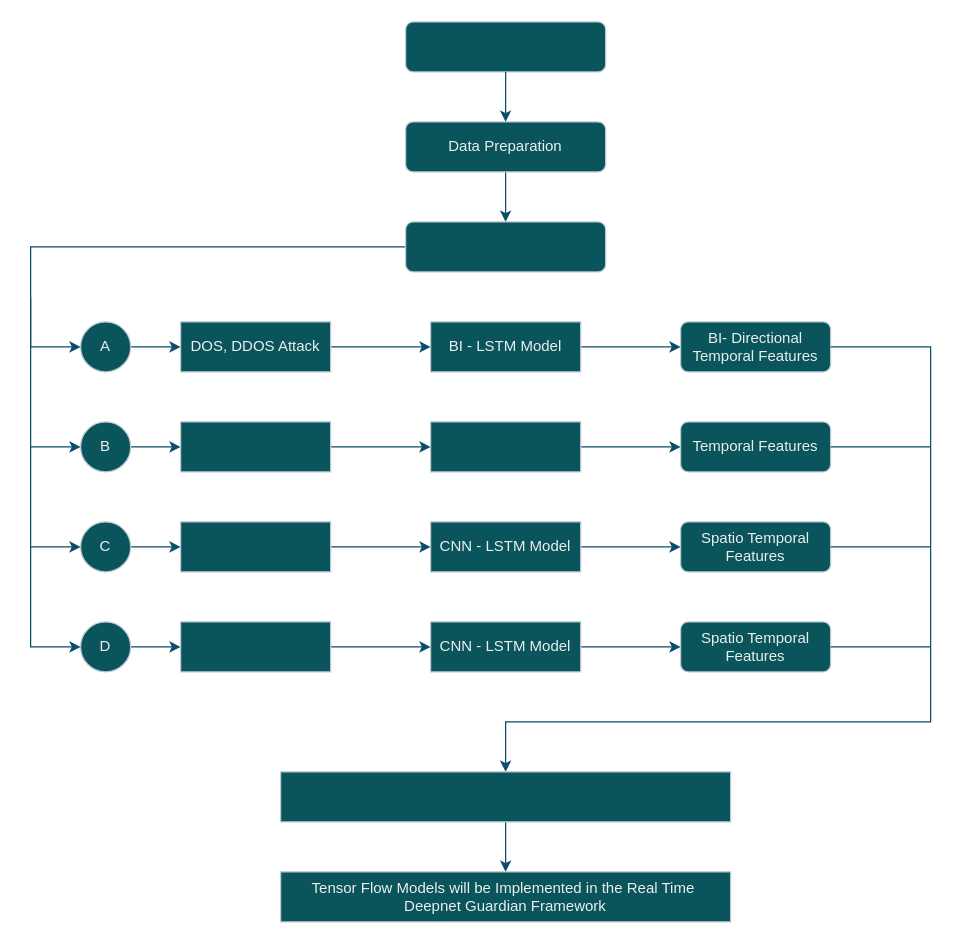
The diagram is 963 pixels wide and 944 high, and some of its shapes have lost their labels. The shapes that lost their labels are listed below. From the top down, each one's centre as x and y in pixels, then its label:
pixel 505 46: Data Collection
pixel 505 246: Normalization
pixel 255 446: Port Scanning Attack
pixel 505 446: LSTM Model
pixel 255 546: Web Based Attack
pixel 255 646: Access Attack
pixel 505 796: The Four Outputs (or) Trained Models will be stored as the Tensor Flow Models
